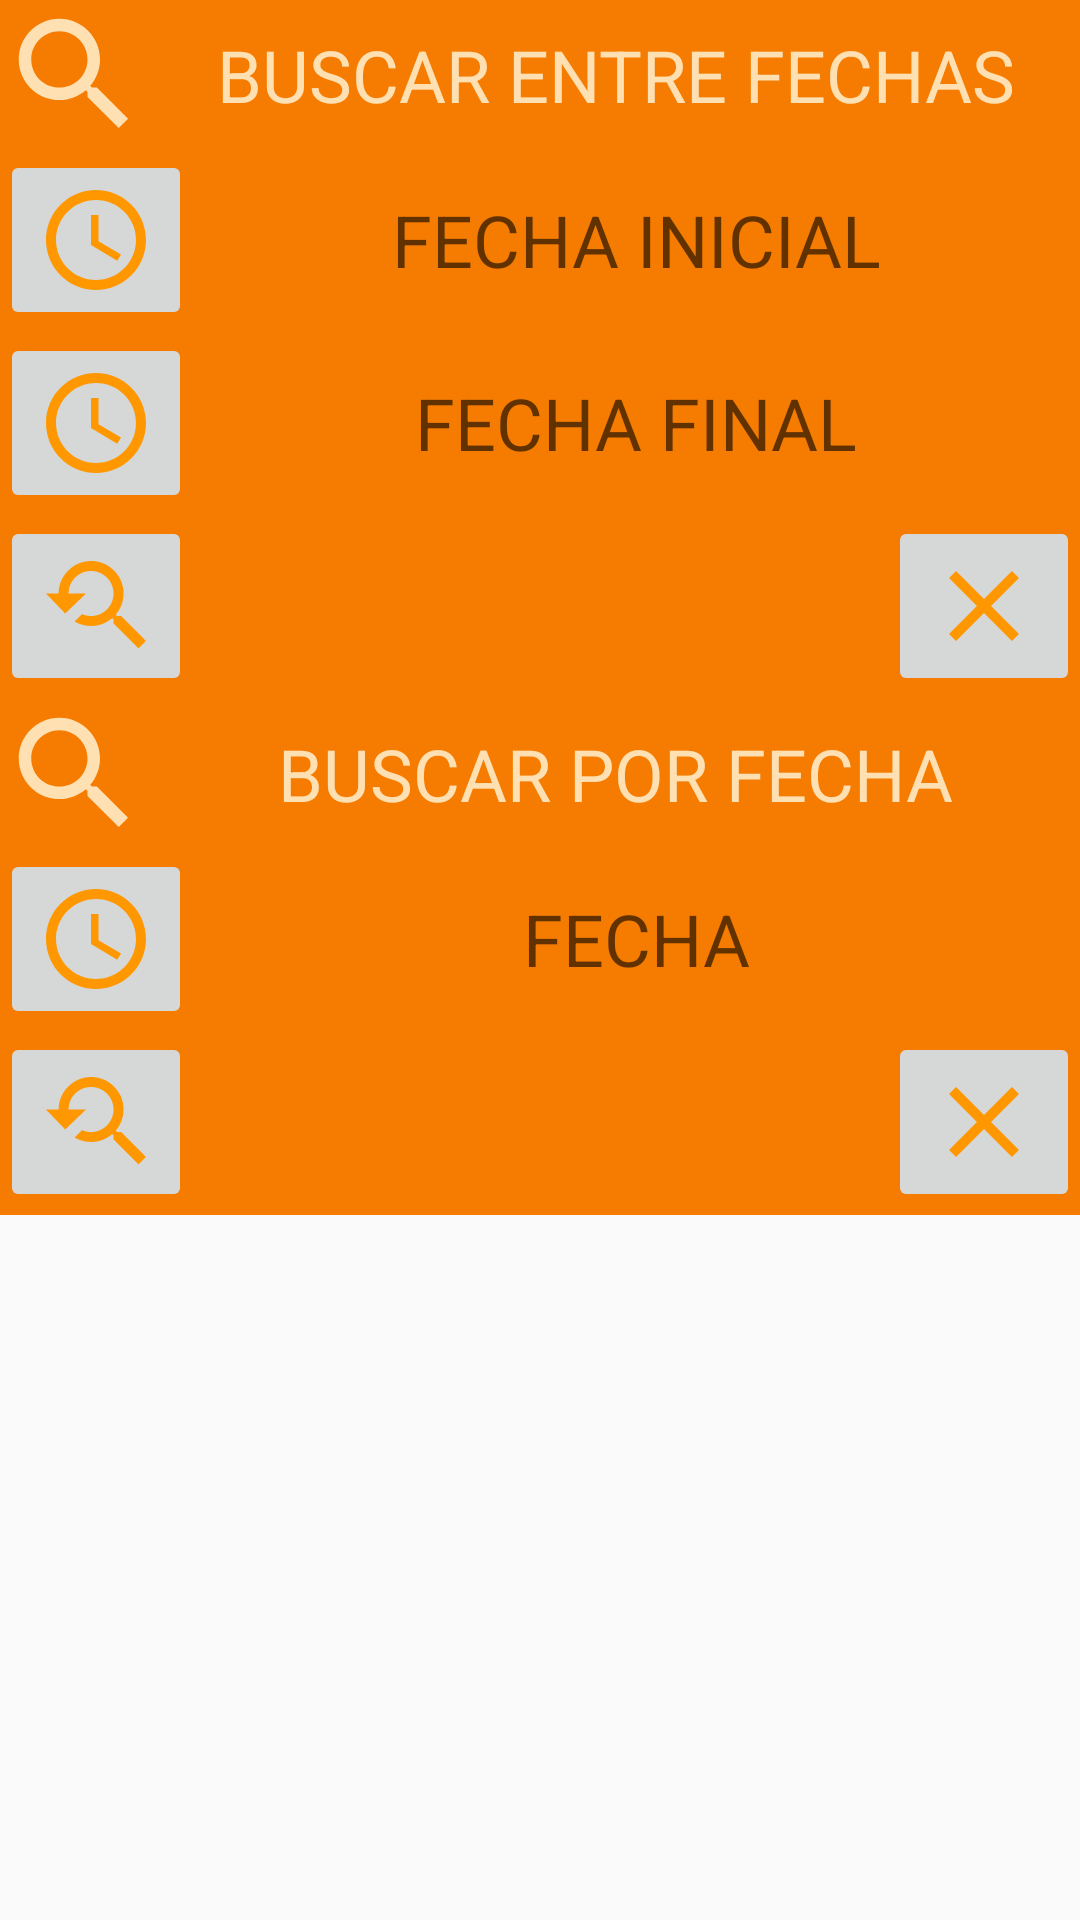

Locate icon controls on the screen. Image size 1080 × 1920, boxes as (left=x1, top=y1, right=x2, bottom=y2).
cancelar busqueda: (left=900, top=534, right=1068, bottom=678), (left=900, top=1050, right=1068, bottom=1194)
lupa: (left=18, top=18, right=128, bottom=128), (left=18, top=717, right=128, bottom=827)
lupabuscardp: (left=12, top=534, right=180, bottom=678), (left=12, top=1050, right=180, bottom=1194)
